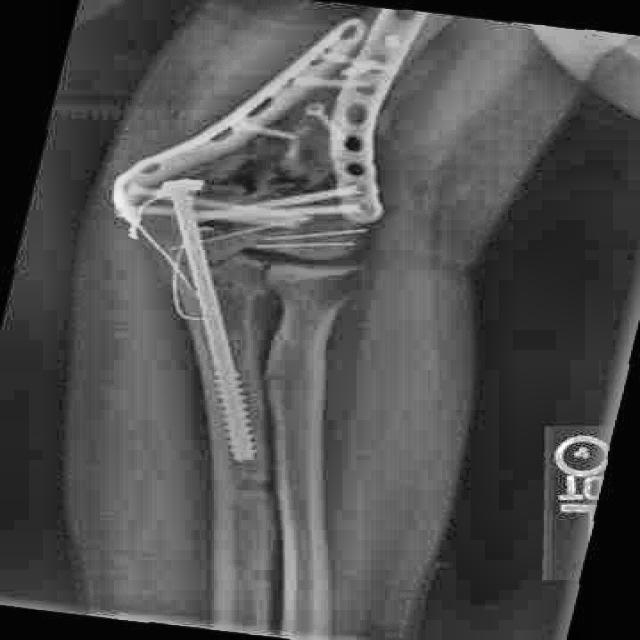elbow positive: (199, 132, 340, 206)
